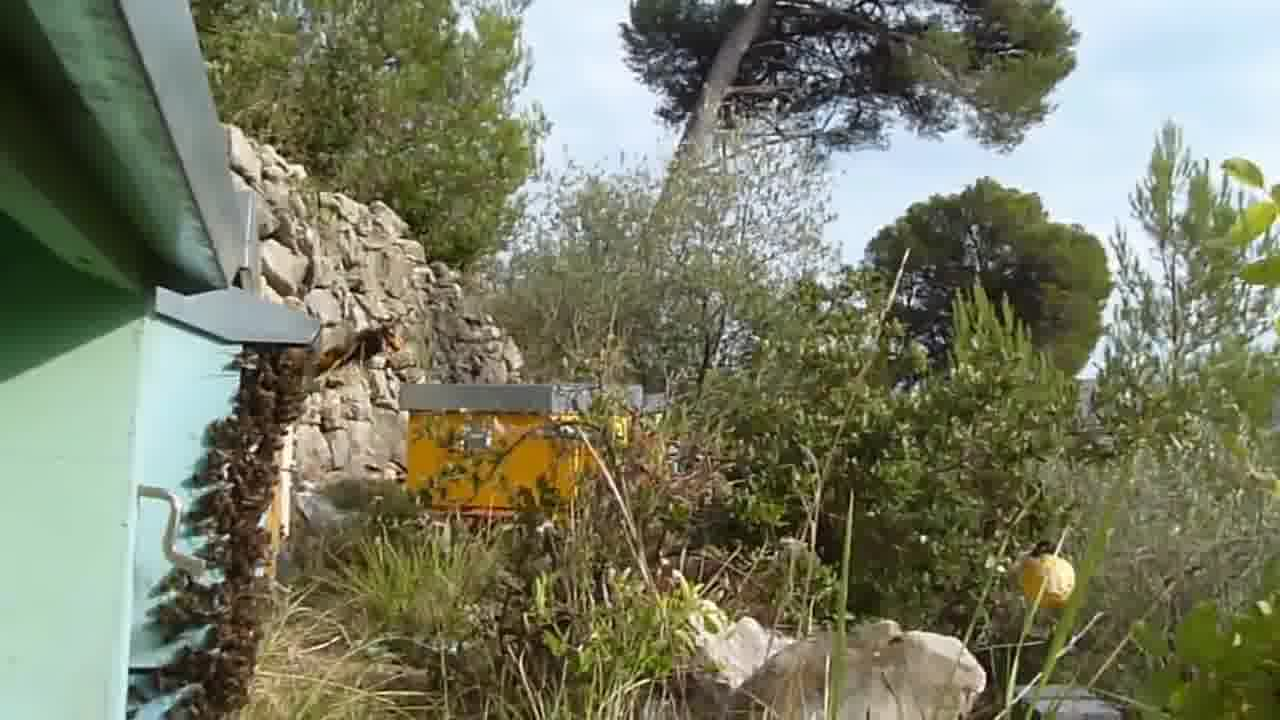bee: (154, 576, 267, 693), (222, 342, 313, 441), (200, 433, 275, 539)
hornet: (311, 323, 405, 377)
